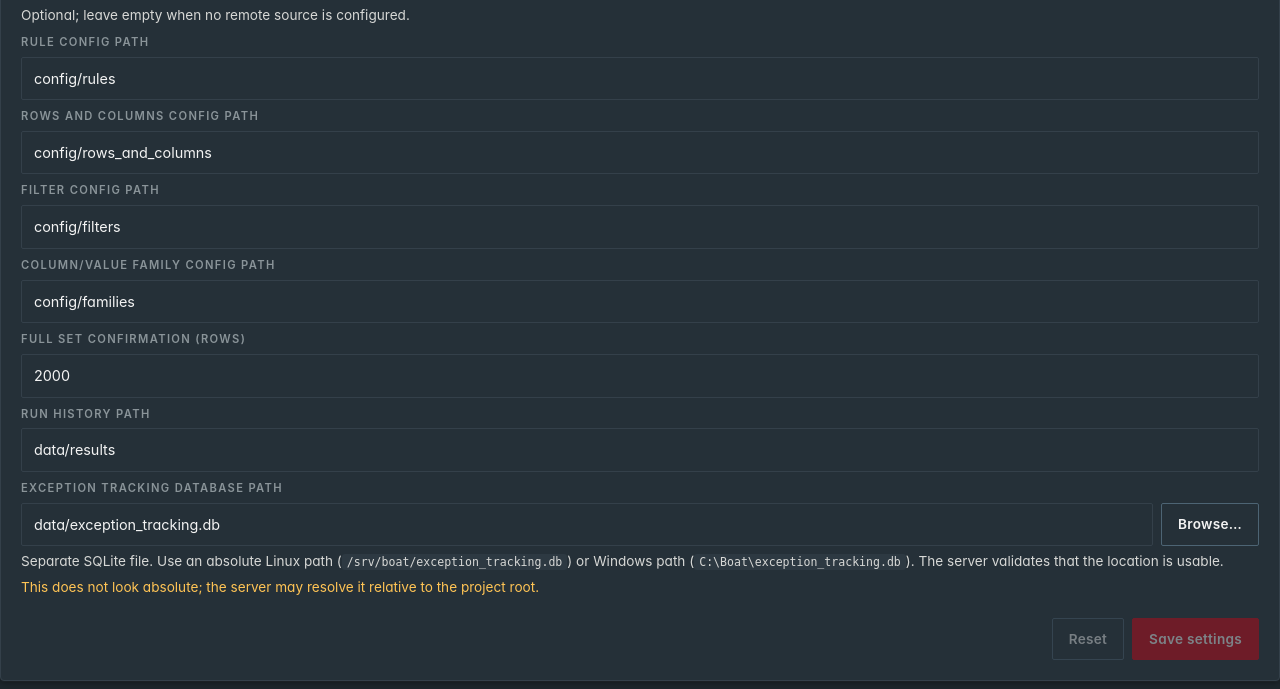
Scenario: SettingsPage › keeps the absolute text input when no system picker is available
This screenshot has width=1280, height=689.
(page scrolled)
expect the dropdown labelled "Exception tracking database path" is shown: met, box [21,503,1153,546]
Step 1. Click the button "Browse…" → (1210,525), box [1161,503,1259,546]
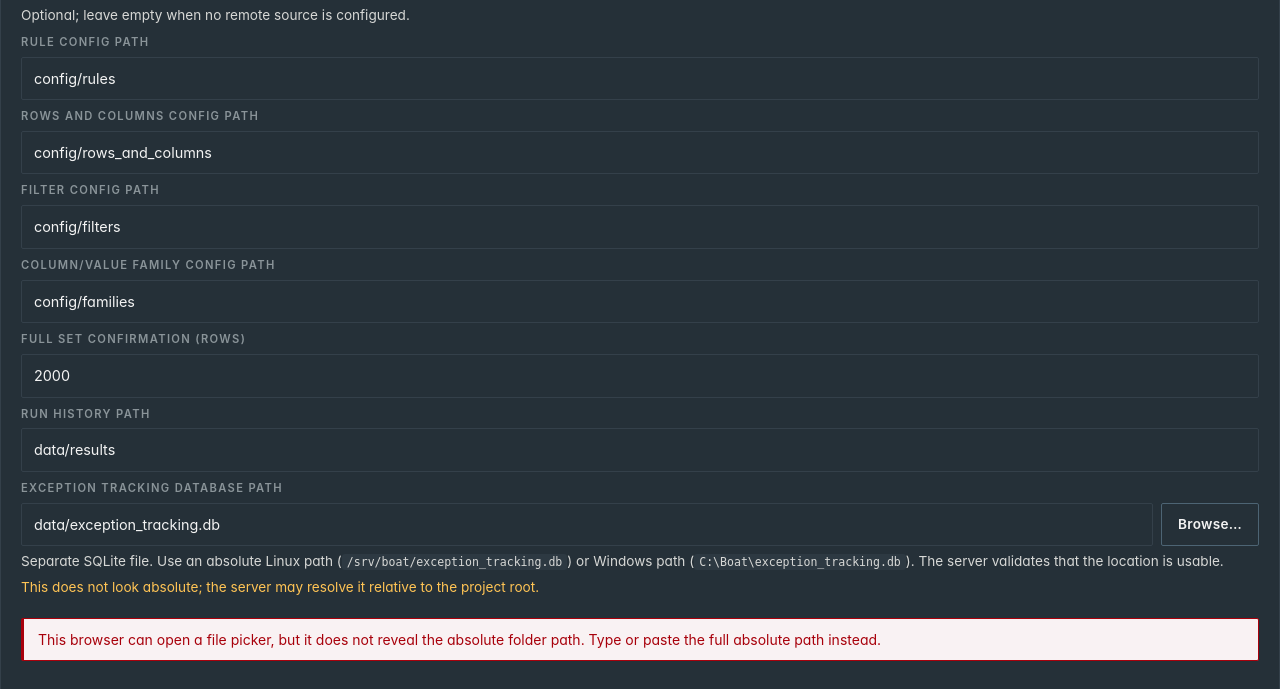
expect the dropdown labelled "Exception tracking database path" holds "data/exception_tracking.db": met, box [21,503,1153,546]
expect the 2nd message shows "absolute path": met, box [38,631,881,648]
